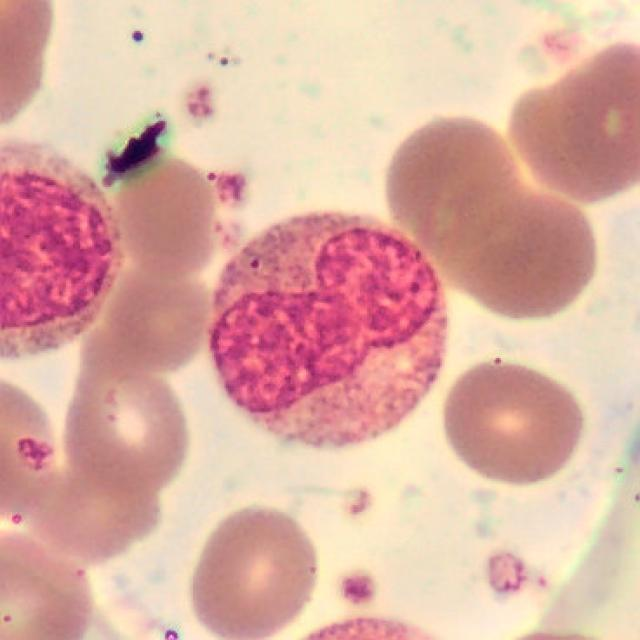Metamielocito: (207, 213, 449, 450)
